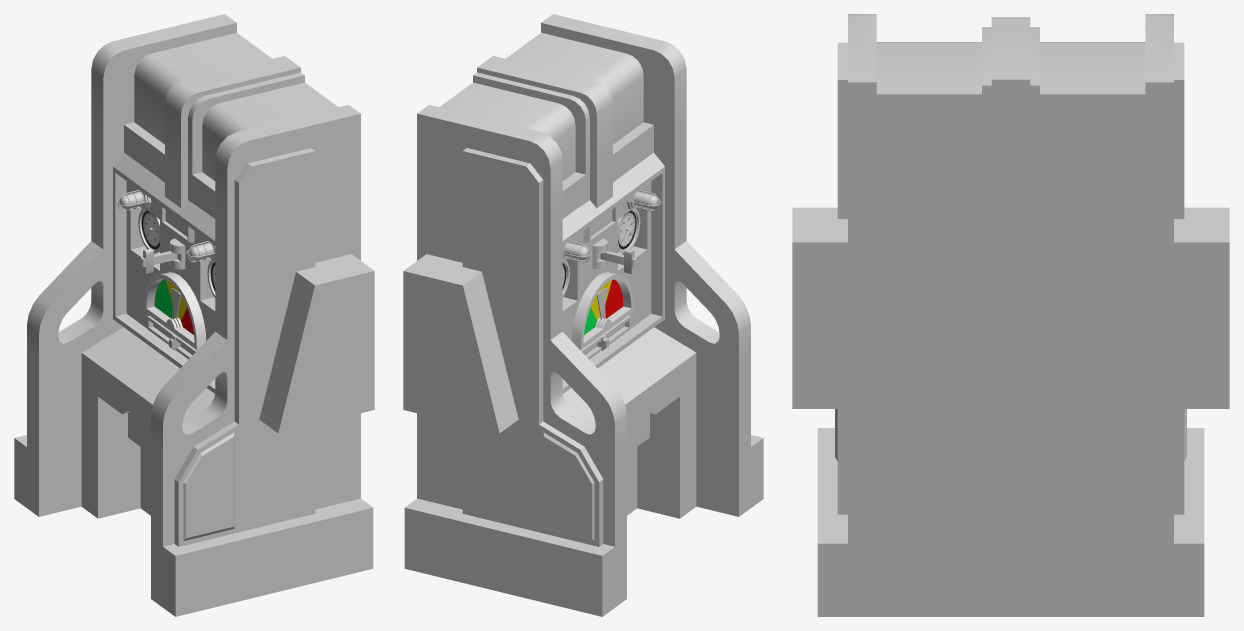
File: ThermalRunaway.fbx
The picture shows the model from 3 angles, left to right: view 1: azimuth 30°, elevation 25°; view 2: azimuth 150°, elevation 25°; view 3: azimuth 270°, elevation 25°; orthographic projection. The views are drawn at different scales.
Visible parts, largest first — view 1: ThermalRunawayCover, ThermalRunaway, indicator, Front_Thermometer, Slider_Frame, Clock; view 2: ThermalRunawayCover, ThermalRunaway, indicator, Back_Thermometer, Slider_Frame, Clock; view 3: ThermalRunaway, ThermalRunawayCover.
Boxes of the visible parts, left/top/right/bottom form: ThermalRunawayCover: left=14, top=14, right=374, bottom=616; ThermalRunaway: left=81, top=122, right=215, bottom=518; indicator: left=144, top=272, right=206, bottom=350; Front_Thermometer: left=138, top=209, right=159, bottom=254; Slider_Frame: left=147, top=315, right=196, bottom=359; Clock: left=161, top=206, right=194, bottom=242; ThermalRunawayCover: left=403, top=14, right=763, bottom=616; ThermalRunaway: left=562, top=122, right=696, bottom=518; indicator: left=571, top=272, right=633, bottom=350; Back_Thermometer: left=618, top=209, right=640, bottom=254; Slider_Frame: left=581, top=315, right=630, bottom=359; Clock: left=583, top=206, right=616, bottom=242; ThermalRunaway: left=876, top=171, right=1145, bottom=616; ThermalRunawayCover: left=792, top=14, right=1229, bottom=616.
Size of the model in its own units: 142 by 307 by 227.
